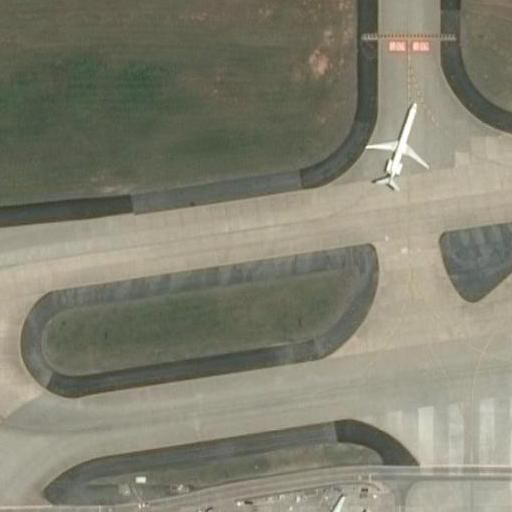Aircraft: (362, 100, 432, 185), (289, 499, 379, 512)
